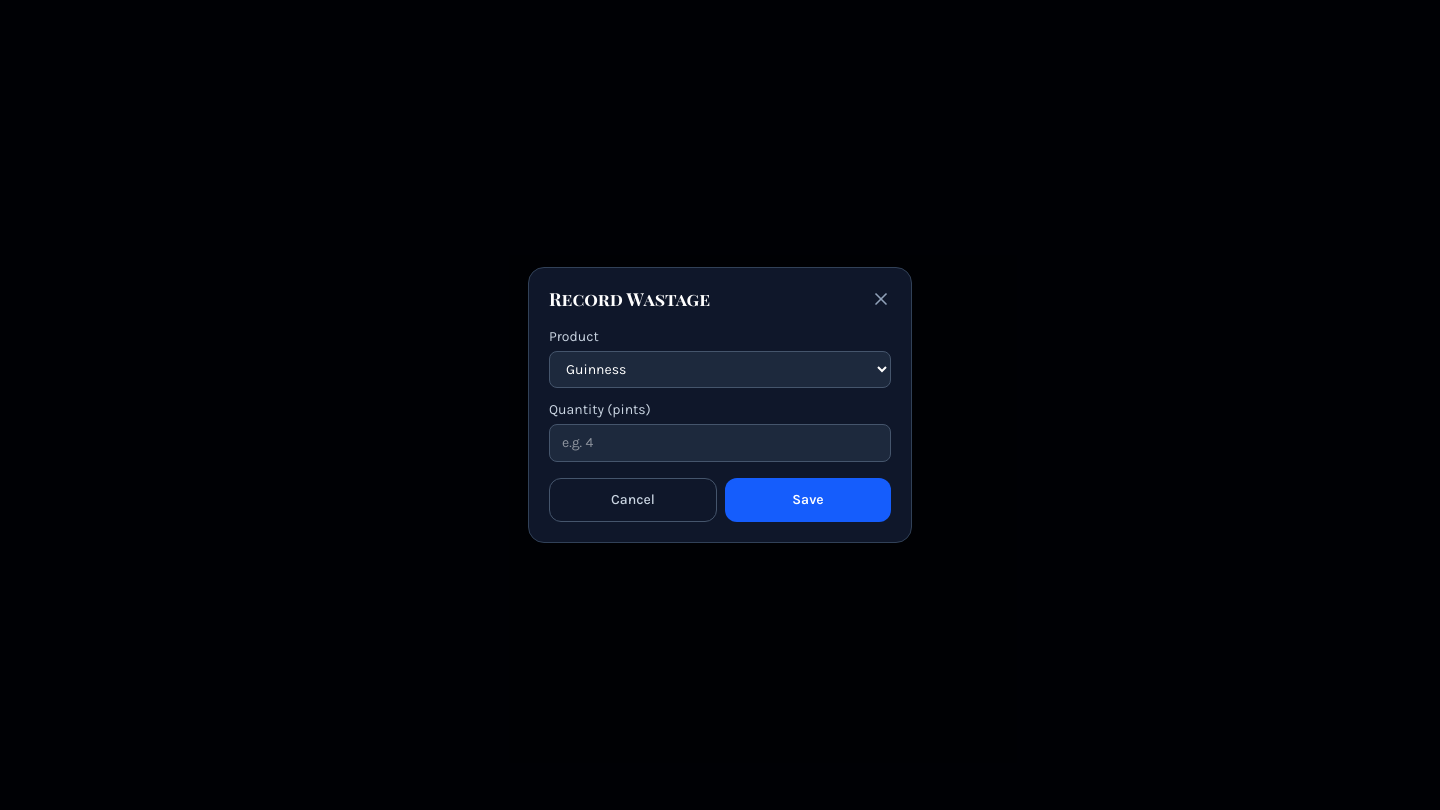
Test: WastageModal › shows error when quantity is empty
Click the button "Save": (808, 500) left=725, top=478, right=891, bottom=522
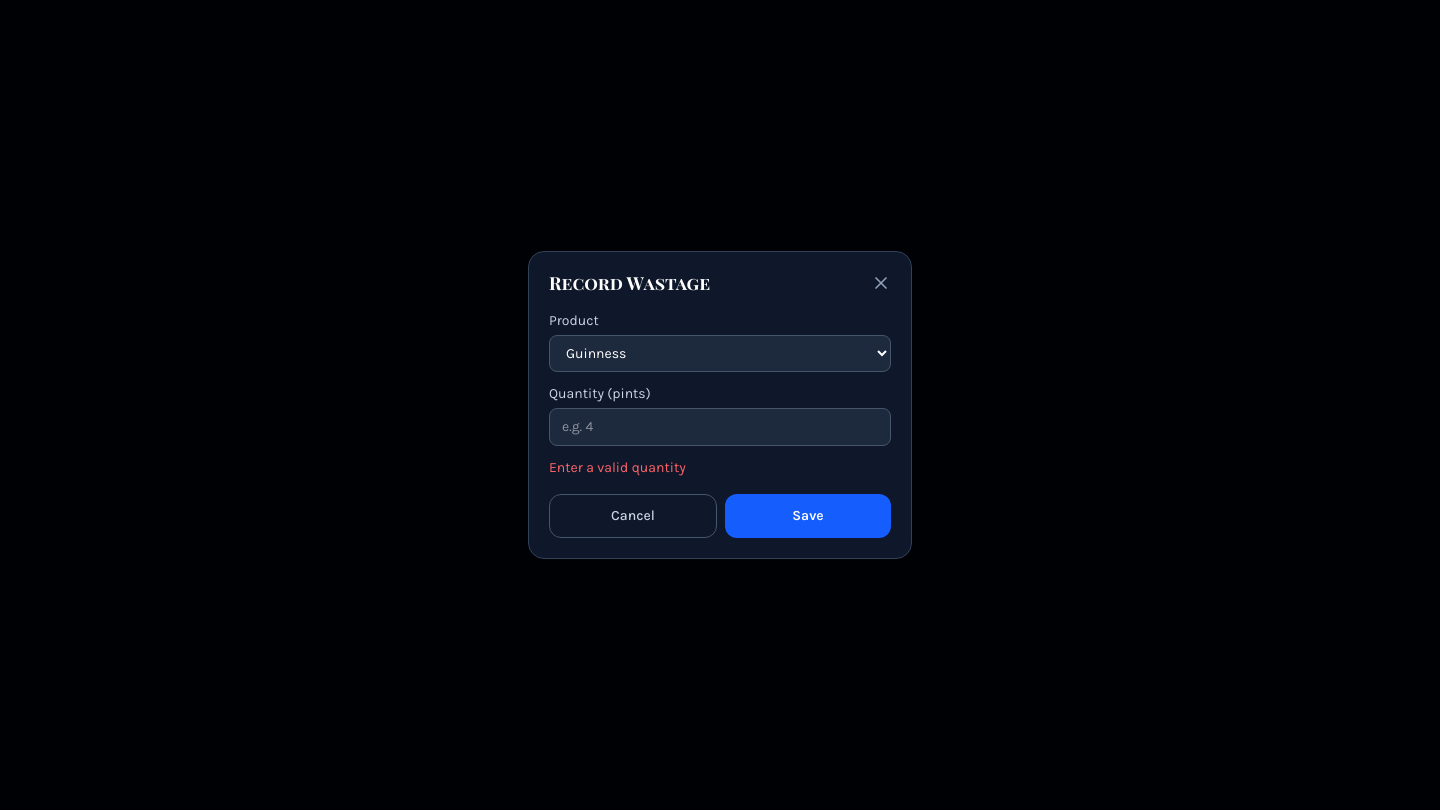
Result: the text "Enter a valid quantity" is shown at left=549, top=459, right=686, bottom=476
